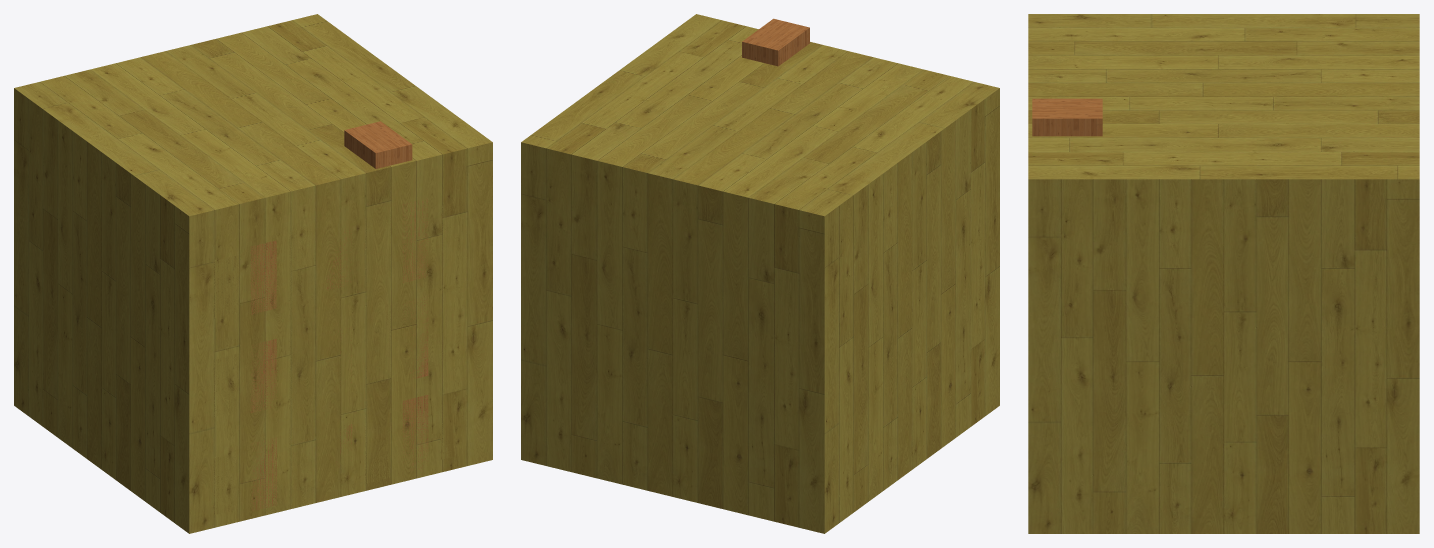
Rendered from bookcase.gltf.
3 views of the same model, side by side, from view 1: azimuth 30°, elevation 25°; view 2: azimuth 150°, elevation 25°; view 3: azimuth 270°, elevation 25° (orthographic). The views are drawn at different scales.
Visible parts, largest first — view 1: body, book3, book_2_1, book_2_0, book_1_1, book_1_0, book_0_5, book_0_0, book_0_1, book_2_5, book_2_2; view 2: body, book3; view 3: body, book3.
Part boxes in pixels (bbox=[...]): body: bbox=[14, 14, 492, 533]; book3: bbox=[344, 121, 412, 168]; book_2_1: bbox=[250, 240, 276, 314]; book_2_0: bbox=[213, 255, 238, 317]; book_1_1: bbox=[250, 339, 276, 412]; book_1_0: bbox=[213, 353, 238, 415]; book_0_5: bbox=[402, 395, 428, 477]; book_0_0: bbox=[213, 452, 238, 514]; book_0_1: bbox=[251, 437, 276, 510]; book_2_5: bbox=[402, 198, 427, 282]; book_2_2: bbox=[288, 226, 313, 310]; body: bbox=[521, 14, 999, 533]; book3: bbox=[742, 18, 809, 66]; body: bbox=[1028, 14, 1419, 533]; book3: bbox=[1032, 98, 1102, 136].
Size of the model in its own units: 1 by 1.05 by 1.
2 materials, 2 textured.
